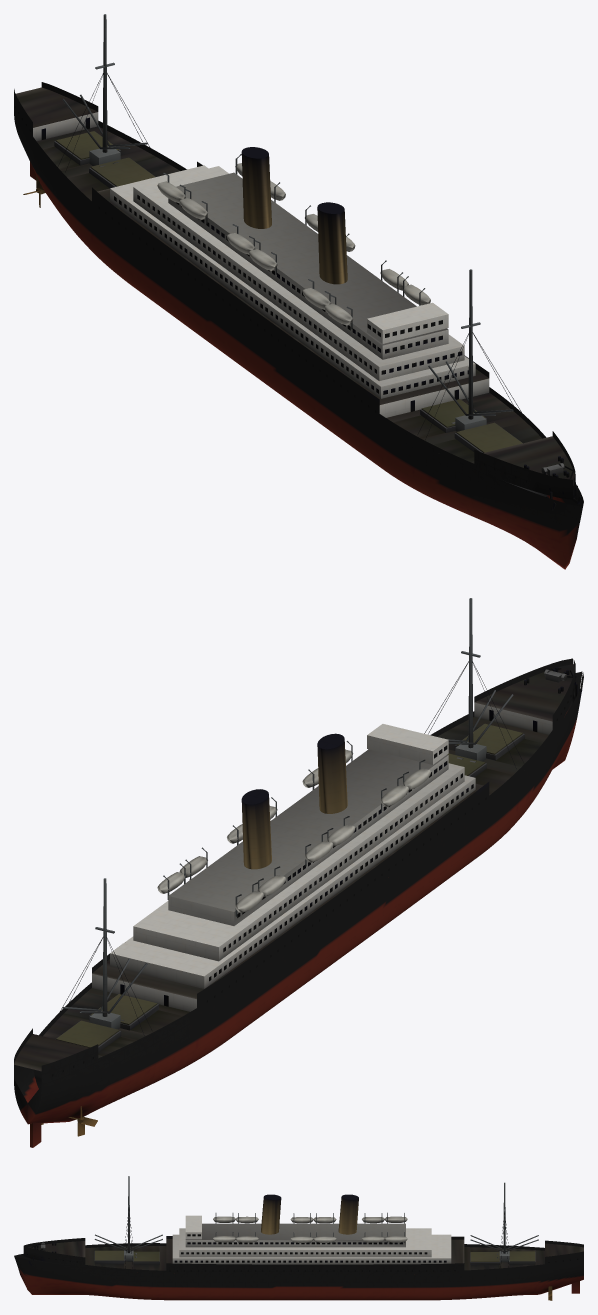
Rendered from model_built.glb.
The picture shows the model from 3 angles, top to bottom: view 1: azimuth 30°, elevation 25°; view 2: azimuth 150°, elevation 25°; view 3: azimuth 270°, elevation 25°; orthographic projection. The views are drawn at different scales.
Parts seen in each view (by area): view 1: main; view 2: main; view 3: main.
Part boxes in pixels (x1,y1,x2,y2): main: [14, 14, 583, 569]; main: [14, 598, 583, 1147]; main: [14, 1176, 583, 1300].
Bounding box in the file's own units: 20.22 × 40.5 × 176.
Materials: 1 (1 with a texture image).
